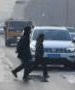person: (10, 26, 34, 81), (26, 33, 51, 83)
